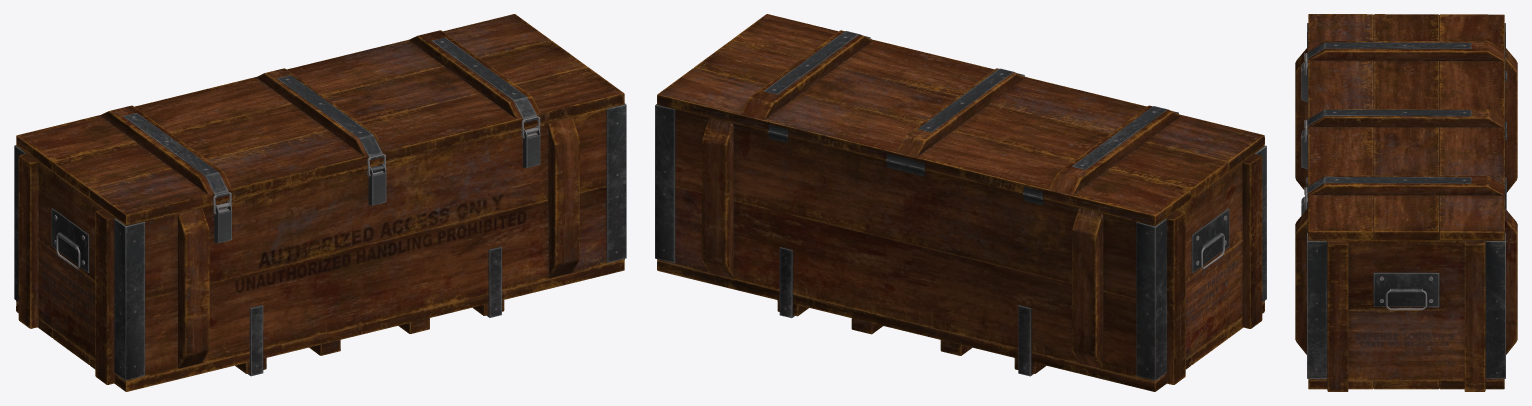
Rendered from item-goods.glb.
3 renders of one model, left to right at view 1: azimuth 30°, elevation 25°; view 2: azimuth 150°, elevation 25°; view 3: azimuth 270°, elevation 25°, orthographic. The views are drawn at different scales.
Visible parts, largest first — view 1: wooden_military_crate, wooden_military_crate_lid; view 2: wooden_military_crate, wooden_military_crate_lid; view 3: wooden_military_crate_lid, wooden_military_crate.
Part boxes in pixels (box(x1,y1,x2,y2)): wooden_military_crate: box(14, 103, 626, 391); wooden_military_crate_lid: box(16, 14, 624, 224); wooden_military_crate: box(655, 104, 1266, 391); wooden_military_crate_lid: box(657, 14, 1264, 225); wooden_military_crate_lid: box(1304, 14, 1506, 240); wooden_military_crate: box(1295, 23, 1517, 391).
Bounding box in the file's own units: 39.97 × 14.96 × 16.74.
Materials: 1 (1 with a texture image).
